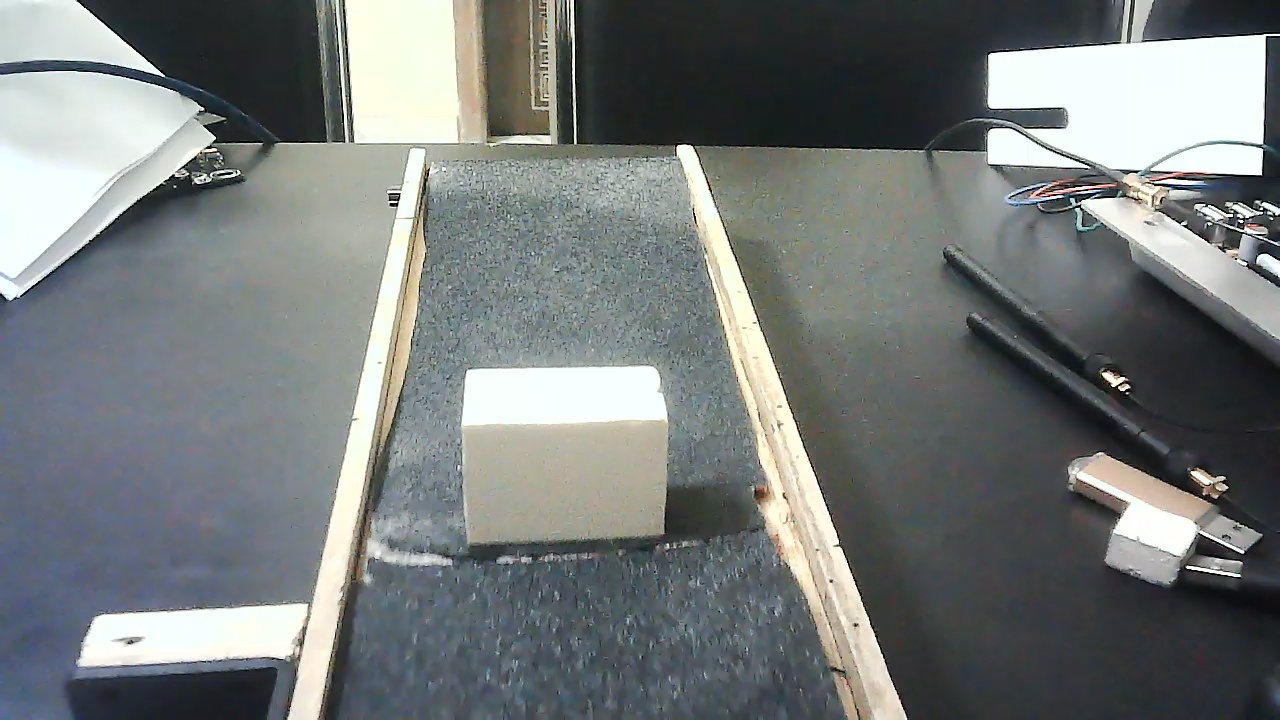BIG: (461, 349, 670, 558)
